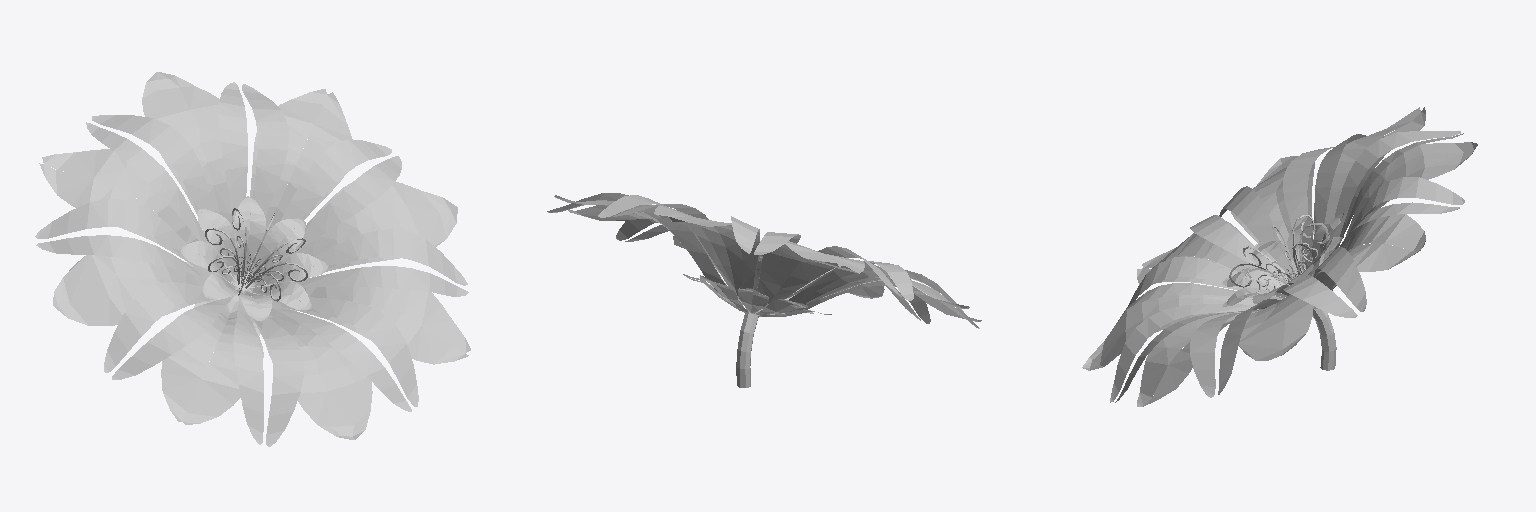
File: bush_large.obj
3 renders of one model, left to right at view 1: azimuth 30°, elevation 25°; view 2: azimuth 150°, elevation 25°; view 3: azimuth 270°, elevation 25°, orthographic.
Visible parts, largest first — view 1: Bush_Flower_Large_Plane.005; view 2: Bush_Flower_Large_Plane.005; view 3: Bush_Flower_Large_Plane.005.
Boxes of the visible parts, x1,y1,x2,y2 form: Bush_Flower_Large_Plane.005: [35, 72, 470, 446]; Bush_Flower_Large_Plane.005: [547, 193, 981, 387]; Bush_Flower_Large_Plane.005: [1082, 107, 1477, 406].
Bounding box in the file's own units: 10.5 × 5.55 × 8.91.